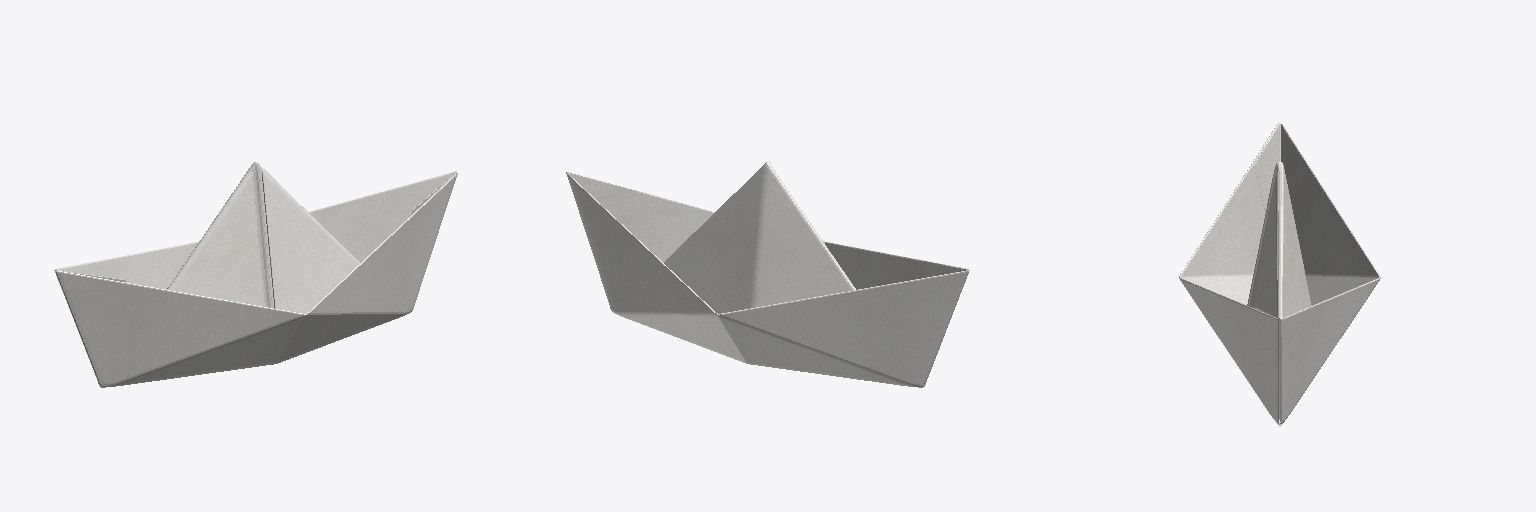
3 views of the same model, side by side, from view 1: azimuth 30°, elevation 25°; view 2: azimuth 150°, elevation 25°; view 3: azimuth 270°, elevation 25° (orthographic).
Visible parts, largest first — view 1: body_boat01; view 2: body_boat01; view 3: body_boat01.
Boxes of the visible parts, x1,y1,x2,y2 form: body_boat01: [54, 162, 457, 387]; body_boat01: [566, 161, 969, 387]; body_boat01: [1179, 123, 1380, 425].
Bounding box in the file's own units: 14.74 × 6.61 × 6.41.
1 materials, 1 textured.